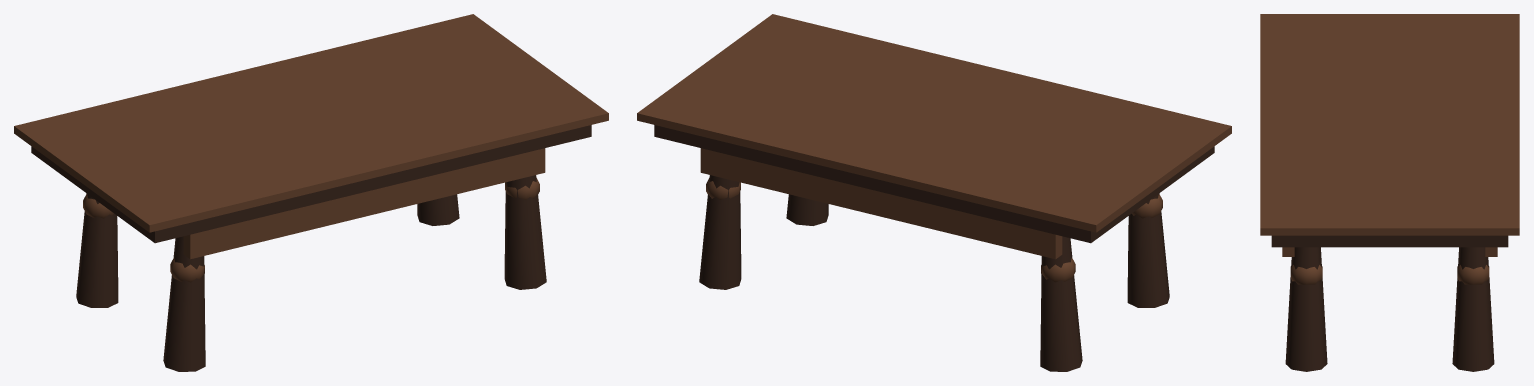
The model's file is dining_table.glb.
3 views of the same model, side by side, from view 1: azimuth 30°, elevation 25°; view 2: azimuth 150°, elevation 25°; view 3: azimuth 270°, elevation 25° (orthographic). The views are drawn at different scales.
Size of the model in its own units: 2.25 by 0.8023 by 1.15.
